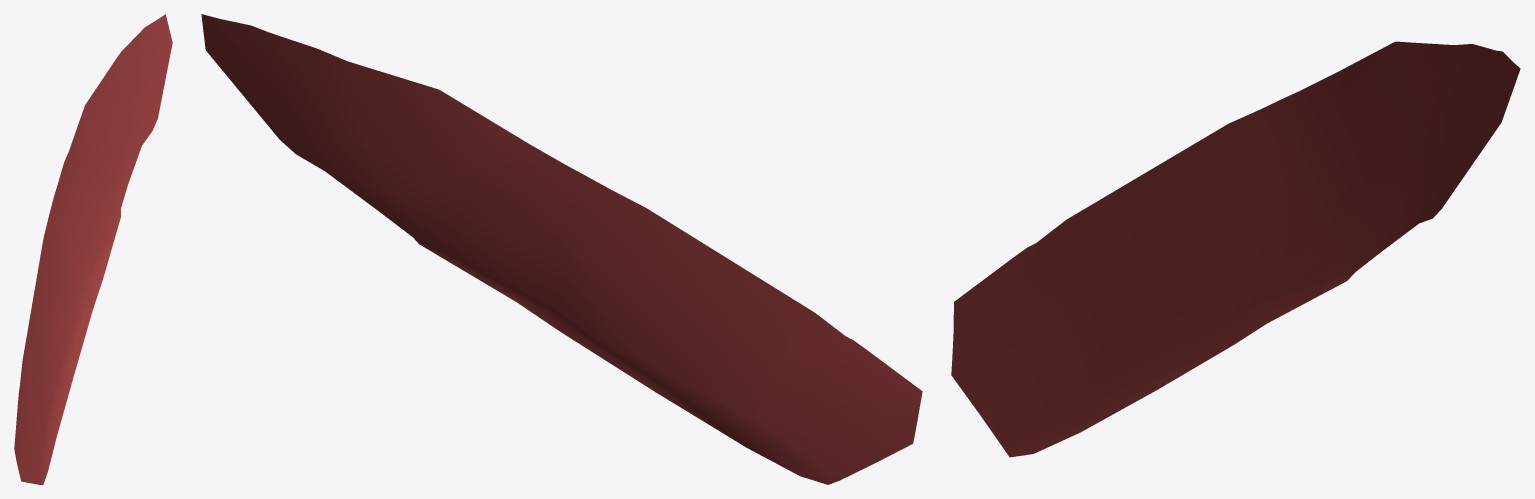
The model's file is serratus-posterior-inferior-muscle-e1l.glb.
3 views of the same model, side by side, from view 1: azimuth 30°, elevation 25°; view 2: azimuth 150°, elevation 25°; view 3: azimuth 270°, elevation 25° (orthographic). The views are drawn at different scales.
Parts seen in each view (by area): view 1: Serratus posterior inferior muscle.e1l; view 2: Serratus posterior inferior muscle.e1l; view 3: Serratus posterior inferior muscle.e1l.
Boxes of the visible parts, x1,y1,x2,y2 form: Serratus posterior inferior muscle.e1l: (14,14,172,484); Serratus posterior inferior muscle.e1l: (201,14,922,484); Serratus posterior inferior muscle.e1l: (951,41,1520,457).
Size of the model in its own units: 0.0213 by 0.0219 by 0.0178.
